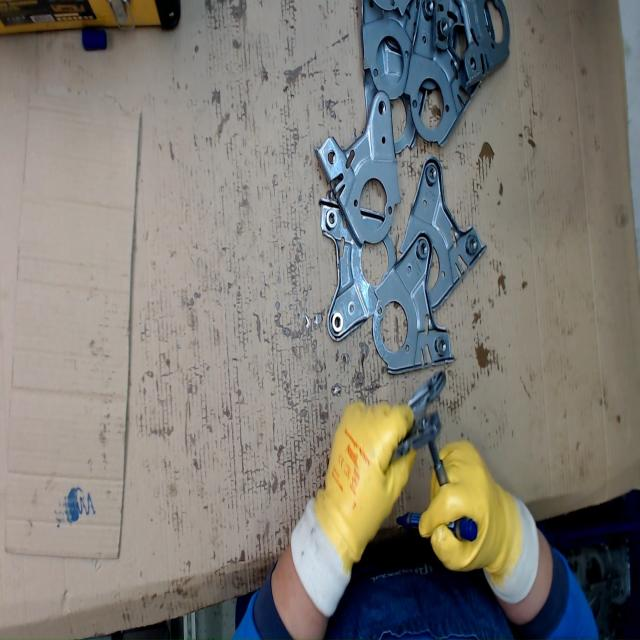hands: (310, 401, 415, 571), (416, 438, 515, 575)
